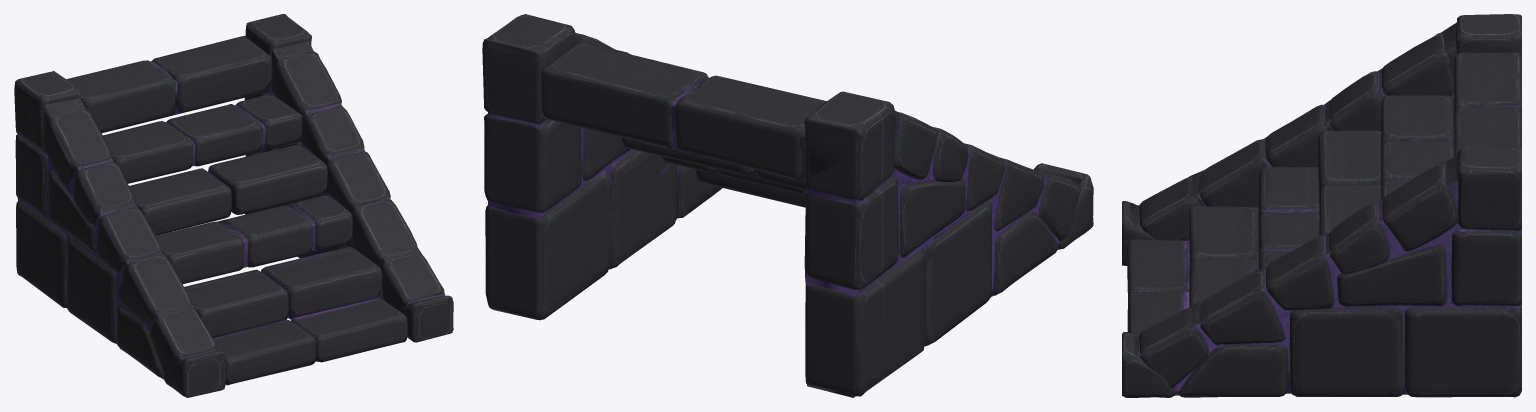
File: entrance_stairs.glb
The picture shows the model from 3 angles, left to right: view 1: azimuth 30°, elevation 25°; view 2: azimuth 150°, elevation 25°; view 3: azimuth 270°, elevation 25°; orthographic projection. The views are drawn at different scales.
Visible parts, largest first — view 1: mesh_node; view 2: mesh_node; view 3: mesh_node.
Part boxes in pixels (x1,y1,x2,y2): mesh_node: (14,14,453,397); mesh_node: (482,14,1093,397); mesh_node: (1122,14,1521,397).
Bounding box in the file's own units: 0.9336 × 0.6426 × 1.
1 material, 1 textured.
